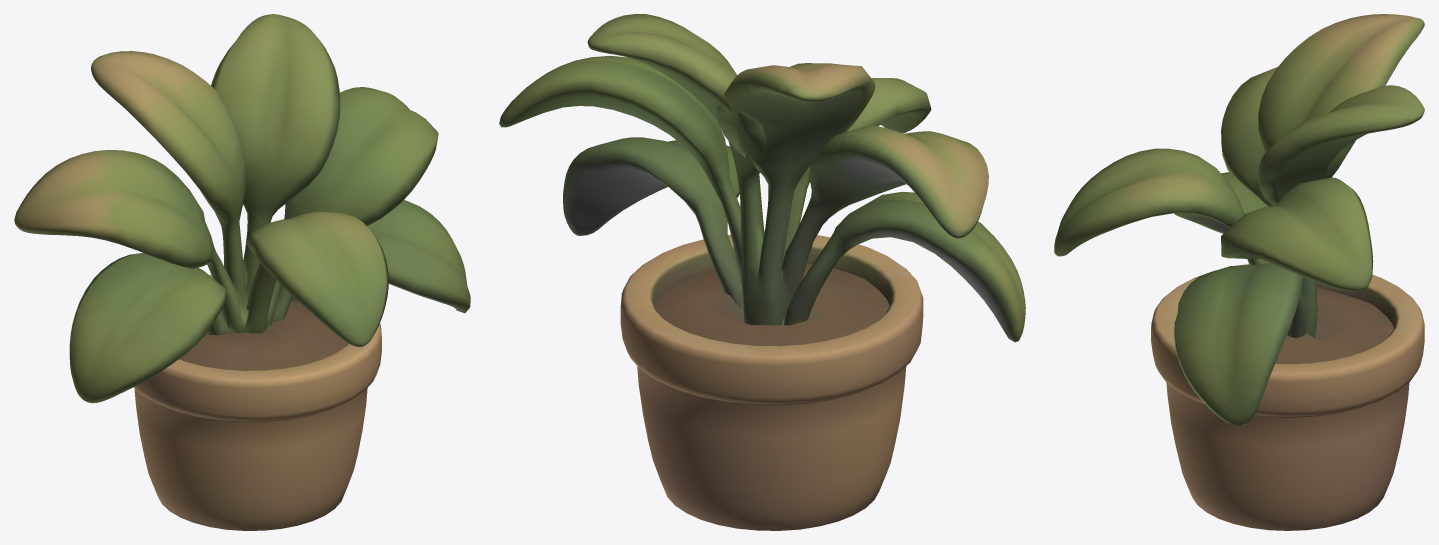
File: potted_plant_3d_model.fbx
3 renders of one model, left to right at view 1: azimuth 30°, elevation 25°; view 2: azimuth 150°, elevation 25°; view 3: azimuth 270°, elevation 25°, orthographic. The views are drawn at different scales.
Parts seen in each view (by area): view 1: tripo_24026adf_caf4_4b7e_95c5_e2918c1503e2; view 2: tripo_24026adf_caf4_4b7e_95c5_e2918c1503e2; view 3: tripo_24026adf_caf4_4b7e_95c5_e2918c1503e2.
Boxes of the visible parts, bbox=[...] form: tripo_24026adf_caf4_4b7e_95c5_e2918c1503e2: bbox=[14, 14, 470, 530]; tripo_24026adf_caf4_4b7e_95c5_e2918c1503e2: bbox=[499, 14, 1025, 530]; tripo_24026adf_caf4_4b7e_95c5_e2918c1503e2: bbox=[1054, 14, 1424, 530].
Size of the model in its own units: 0.9995 by 0.978 by 0.7612.
